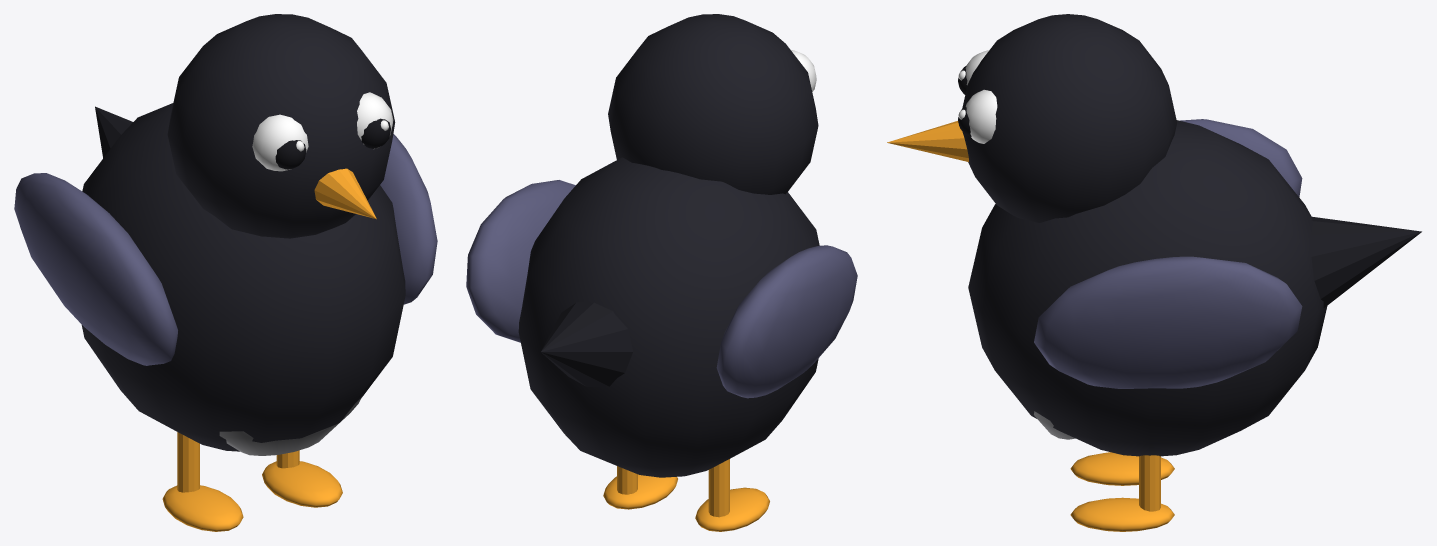
The picture shows the model from 3 angles, left to right: view 1: azimuth 30°, elevation 25°; view 2: azimuth 150°, elevation 25°; view 3: azimuth 270°, elevation 25°; orthographic projection. The views are drawn at different scales.
Parts seen in each view (by area): view 1: Crow; view 2: Crow; view 3: Crow.
Boxes of the visible parts, x1,y1,x2,y2 form: Crow: (14, 14, 437, 531); Crow: (466, 14, 857, 531); Crow: (887, 14, 1421, 531).
Size of the model in its own units: 2.02 by 2.9 by 2.95.
1 material, 1 textured.
